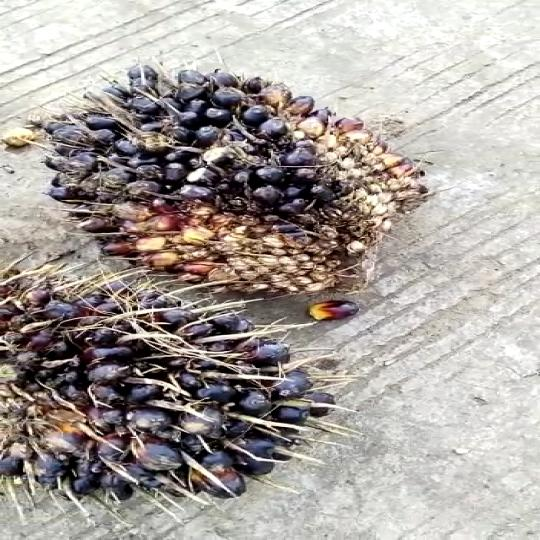mentah: (0, 247, 325, 540), (36, 54, 413, 299)
